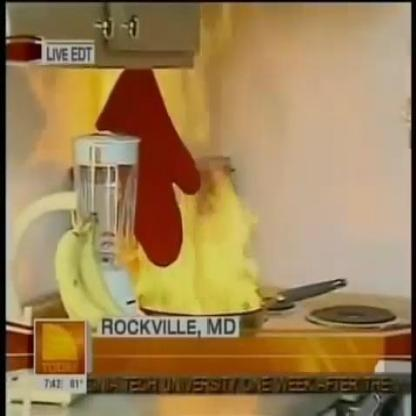fire: (108, 19, 270, 318)
